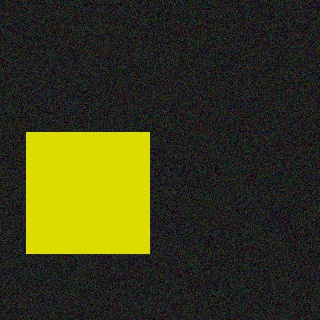yellow_barrel: (26, 133, 150, 254)
